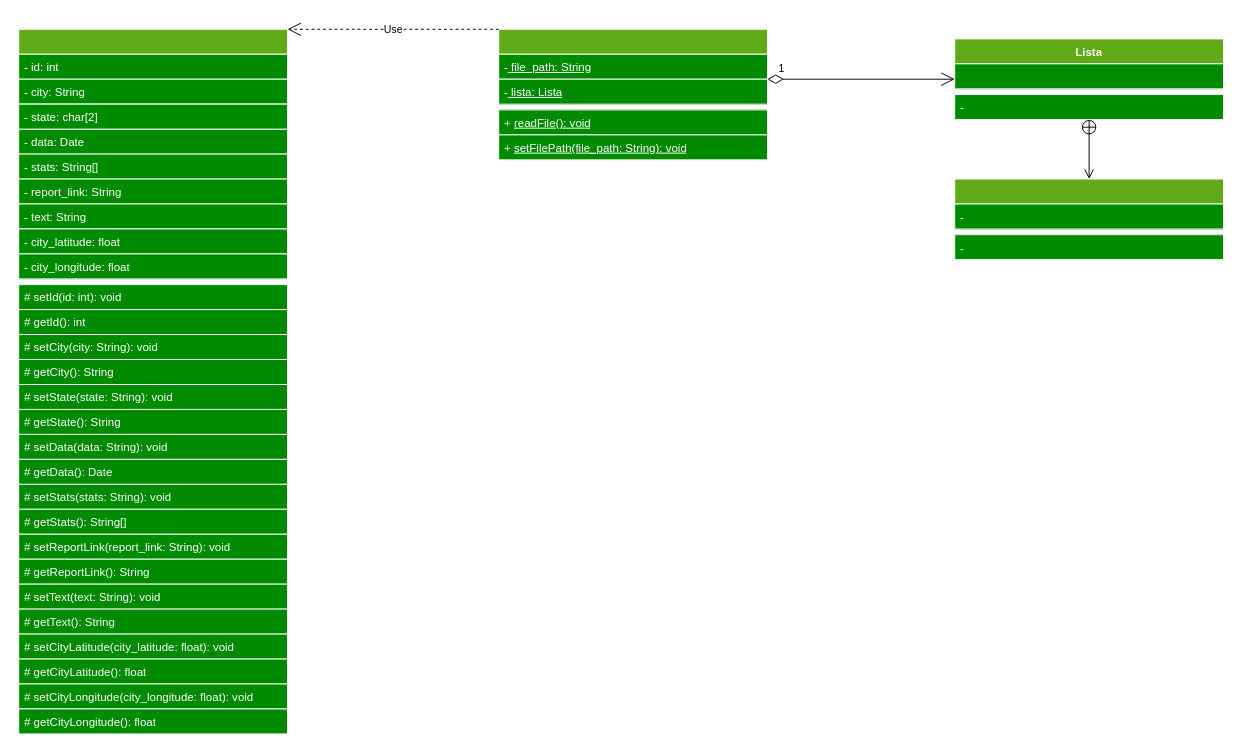
Some shapes in this 1242 by 754 pixel diagram are drawn without their labels. The shapes that lost their labels are listed below. From the top down, each one's box as (x1, y1, x2, y2) in pixels, then its label:
(498, 28, 768, 160): IORegistro
(954, 63, 1224, 89): - head: Node
(954, 178, 1224, 260): Node
(18, 28, 288, 734): Ufo
